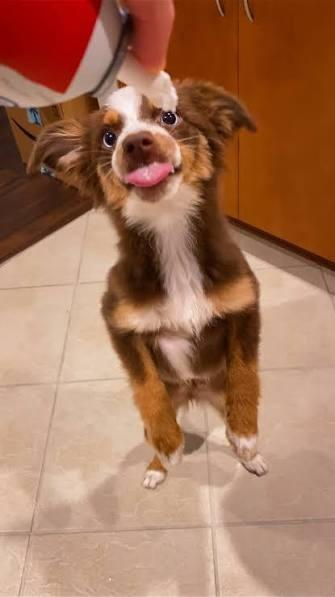adult_dog: (23, 81, 267, 490)
